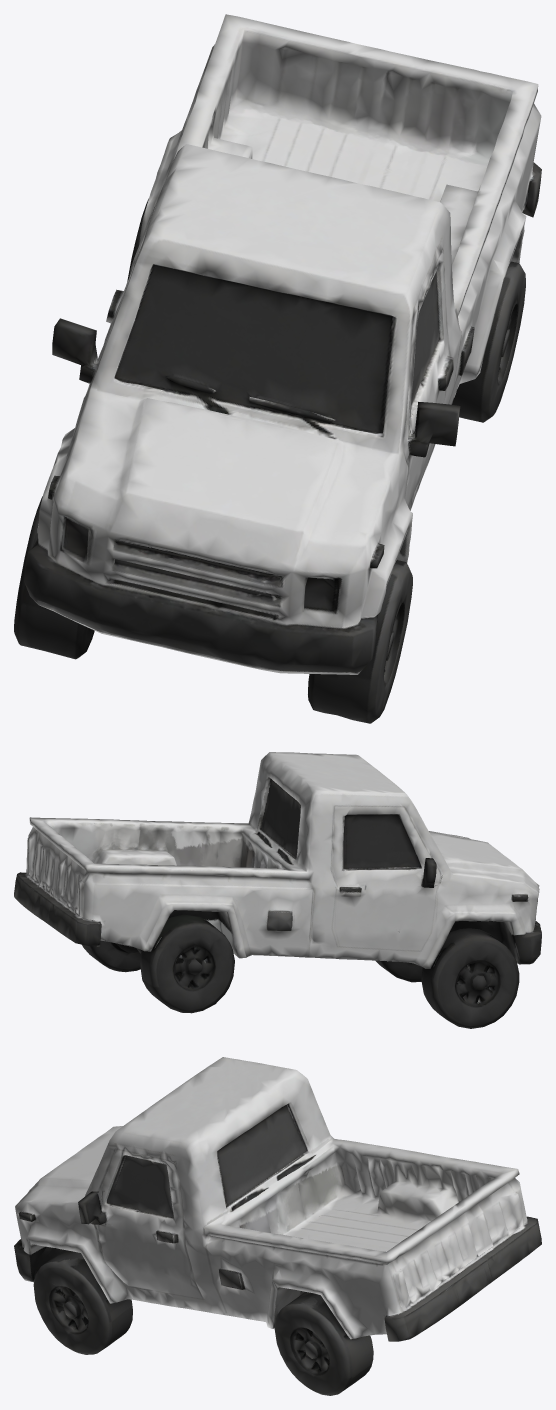
Rendered from pickup-support.glb.
The picture shows the model from 3 angles, top to bottom: view 1: azimuth 30°, elevation 25°; view 2: azimuth 150°, elevation 25°; view 3: azimuth 270°, elevation 25°; orthographic projection. The views are drawn at different scales.
Parts seen in each view (by area): view 1: aiprintgen_tmp_ta8wkt8.obj; view 2: aiprintgen_tmp_ta8wkt8.obj; view 3: aiprintgen_tmp_ta8wkt8.obj.
Boxes of the visible parts, x1,y1,x2,y2 form: aiprintgen_tmp_ta8wkt8.obj: [14, 14, 541, 723]; aiprintgen_tmp_ta8wkt8.obj: [14, 752, 541, 1028]; aiprintgen_tmp_ta8wkt8.obj: [14, 1057, 541, 1395].
Bounding box in the file's own units: 1.73 × 1.05 × 1.8.
Materials: 1 (1 with a texture image).
